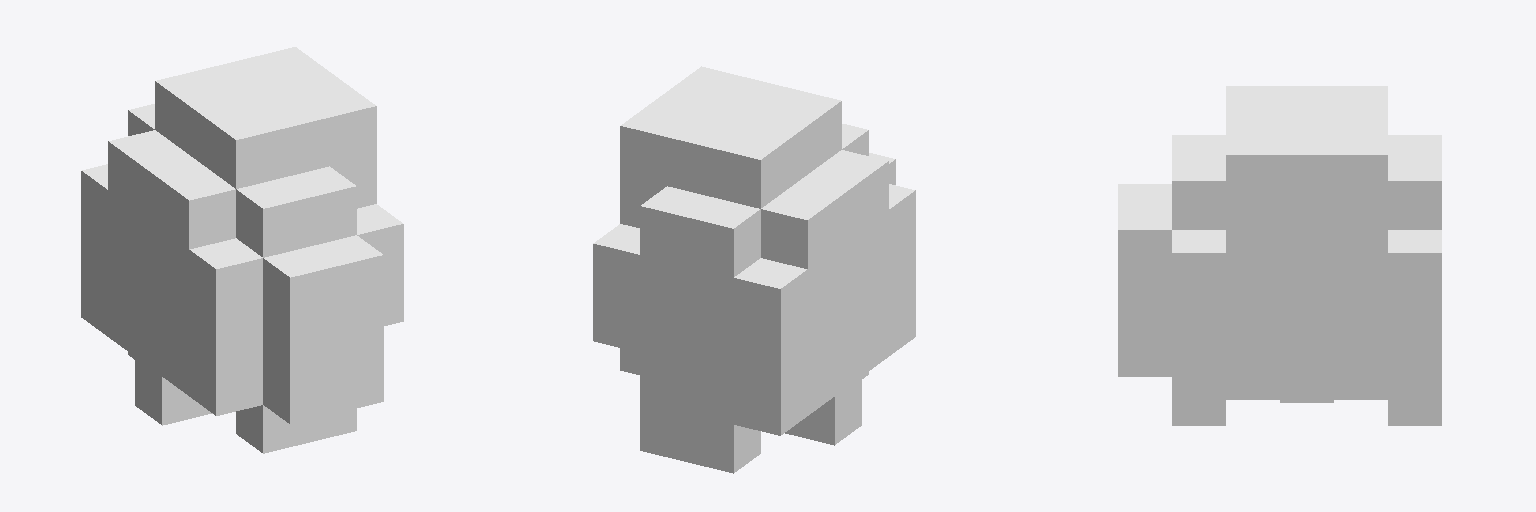
File: kot-3.obj
3 views of the same model, side by side, from view 1: azimuth 30°, elevation 25°; view 2: azimuth 150°, elevation 25°; view 3: azimuth 270°, elevation 25° (orthographic).
Visible parts, largest first — view 1: object 1; view 2: object 1; view 3: object 1.
Boxes of the visible parts, box(x1,y1,x2,y2) form: object 1: box(81, 47, 403, 453); object 1: box(593, 66, 915, 473); object 1: box(1118, 86, 1441, 425).
Size of the model in its own units: 0.4 by 0.6 by 0.6.